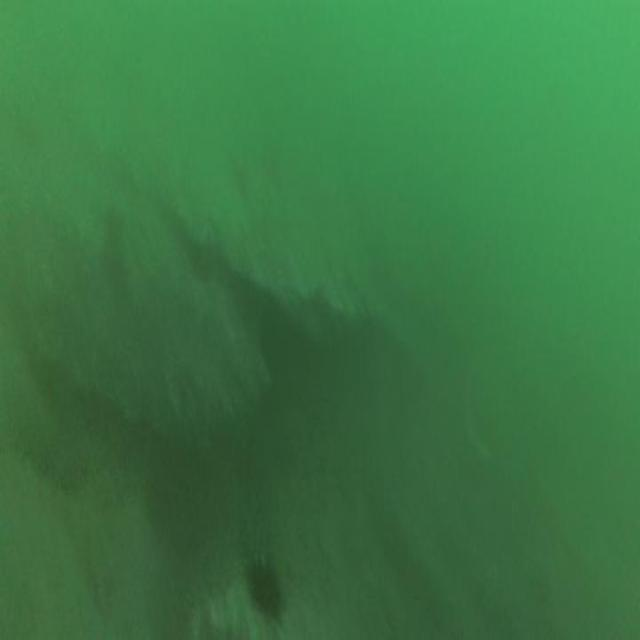echinus: (242, 564, 284, 621)
